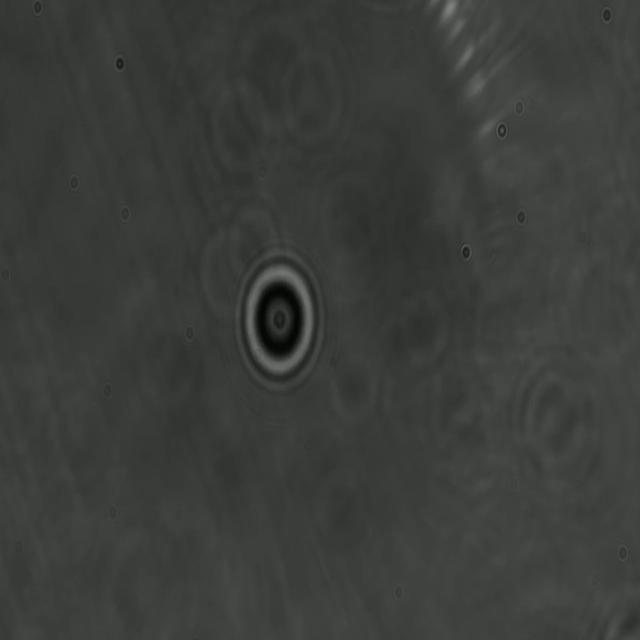LCELL: (229, 242, 327, 397)
